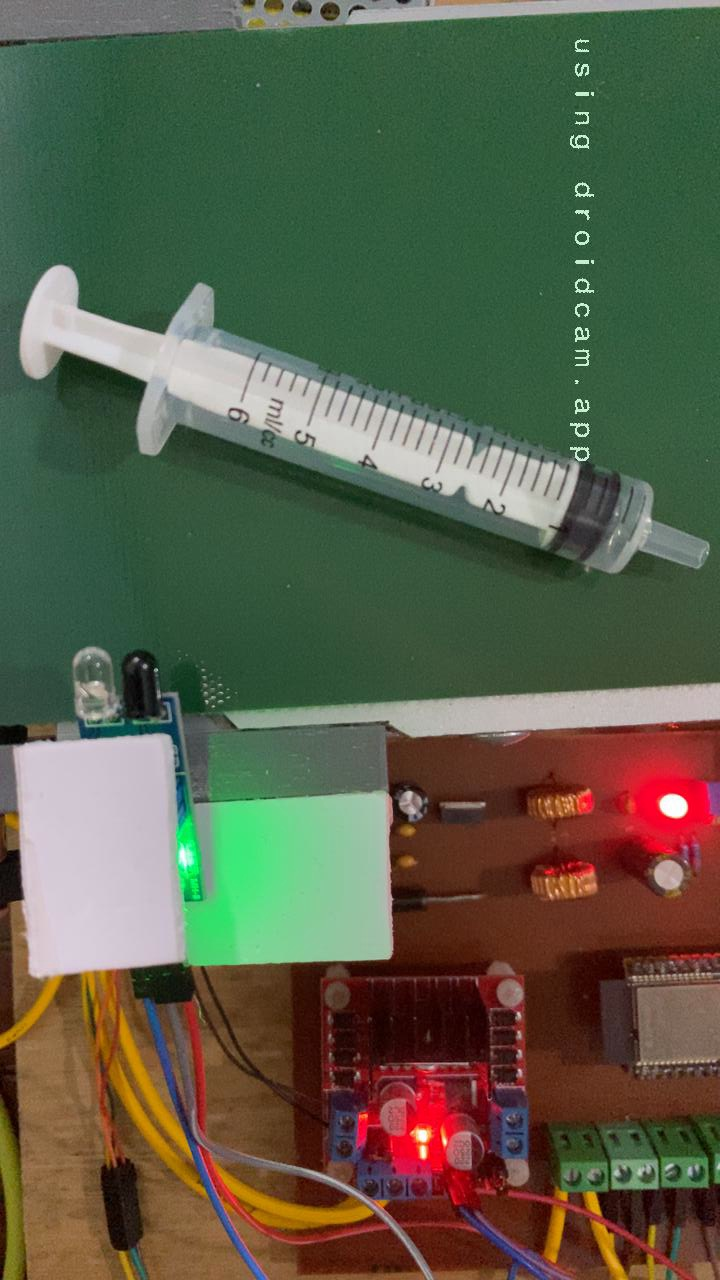syringe: (12, 257, 716, 582)
